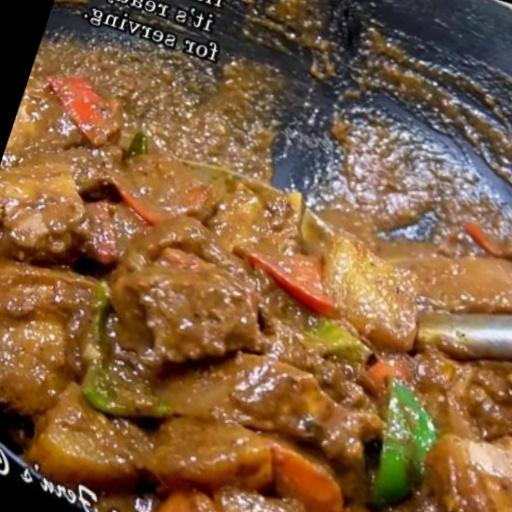pork caldereta: (0, 156, 511, 511)
